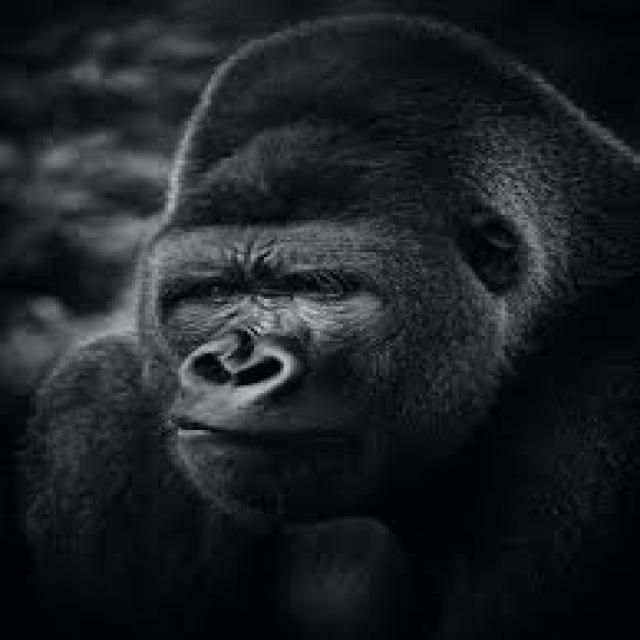Gorilla: (34, 23, 640, 640)
